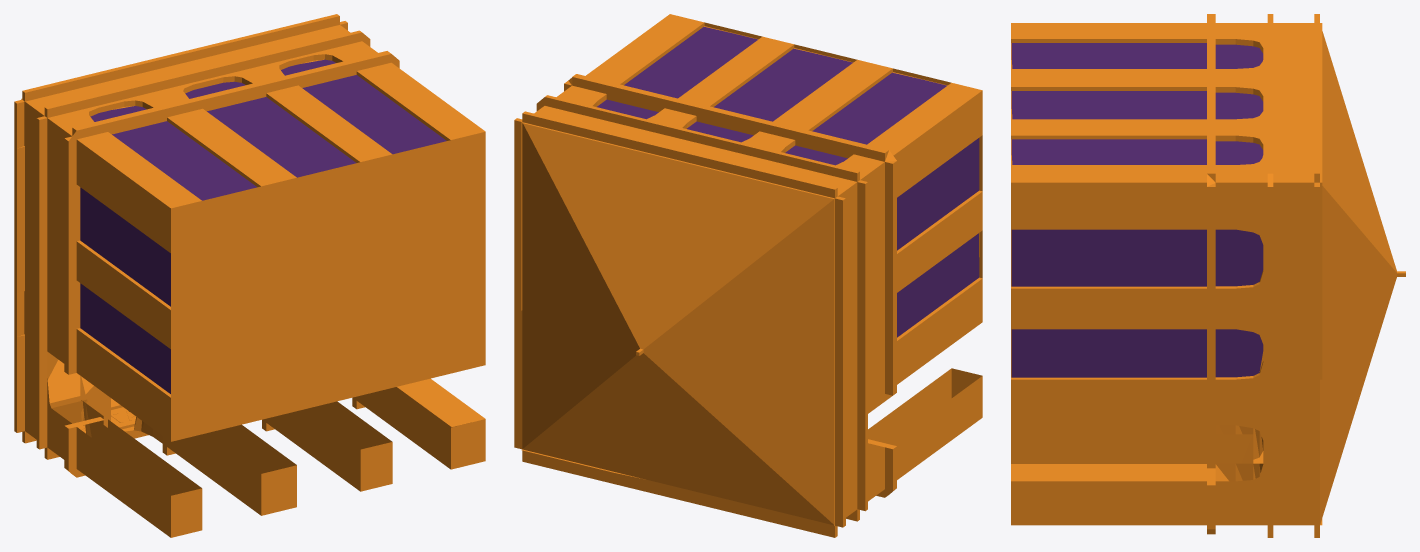
The model's file is Rogatka Warszawska RadomV2.fbx.
The picture shows the model from 3 angles, left to right: view 1: azimuth 30°, elevation 25°; view 2: azimuth 150°, elevation 25°; view 3: azimuth 270°, elevation 25°; orthographic projection. The views are drawn at different scales.
Visible parts, largest first — view 1: Rogatka_Warszawska_Radom; view 2: Rogatka_Warszawska_Radom; view 3: Rogatka_Warszawska_Radom.
Part boxes in pixels (left/top/right/bottom): Rogatka_Warszawska_Radom: left=14, top=14, right=485, bottom=537; Rogatka_Warszawska_Radom: left=514, top=14, right=982, bottom=537; Rogatka_Warszawska_Radom: left=1011, top=14, right=1405, bottom=537.
Bounding box in the file's own units: 38.59 × 39.06 × 38.37.
Materials: 1 (1 with a texture image).
